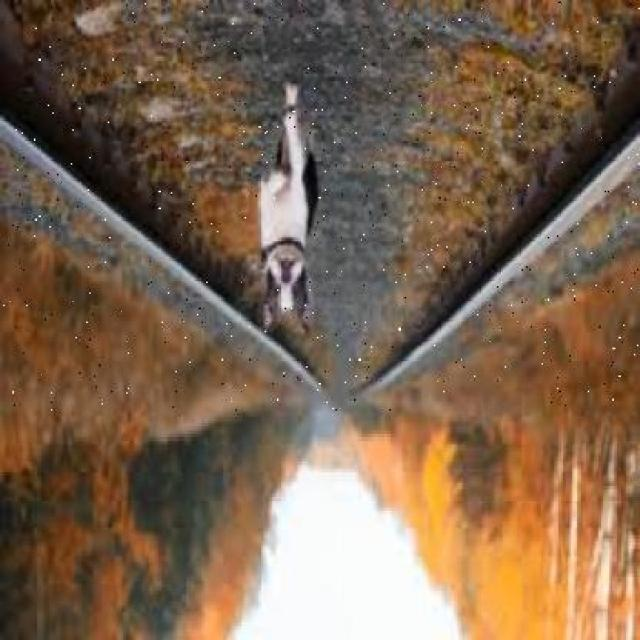danger: (243, 80, 331, 340)
rail: (0, 2, 640, 410)
